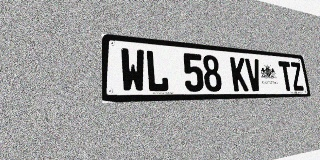5: (183, 53, 205, 92)
8: (202, 54, 222, 92)
K: (230, 57, 249, 91)
L: (145, 50, 169, 92)
T: (278, 61, 294, 91)
V: (245, 58, 263, 91)
W: (120, 48, 146, 92)
Z: (289, 62, 304, 91)
